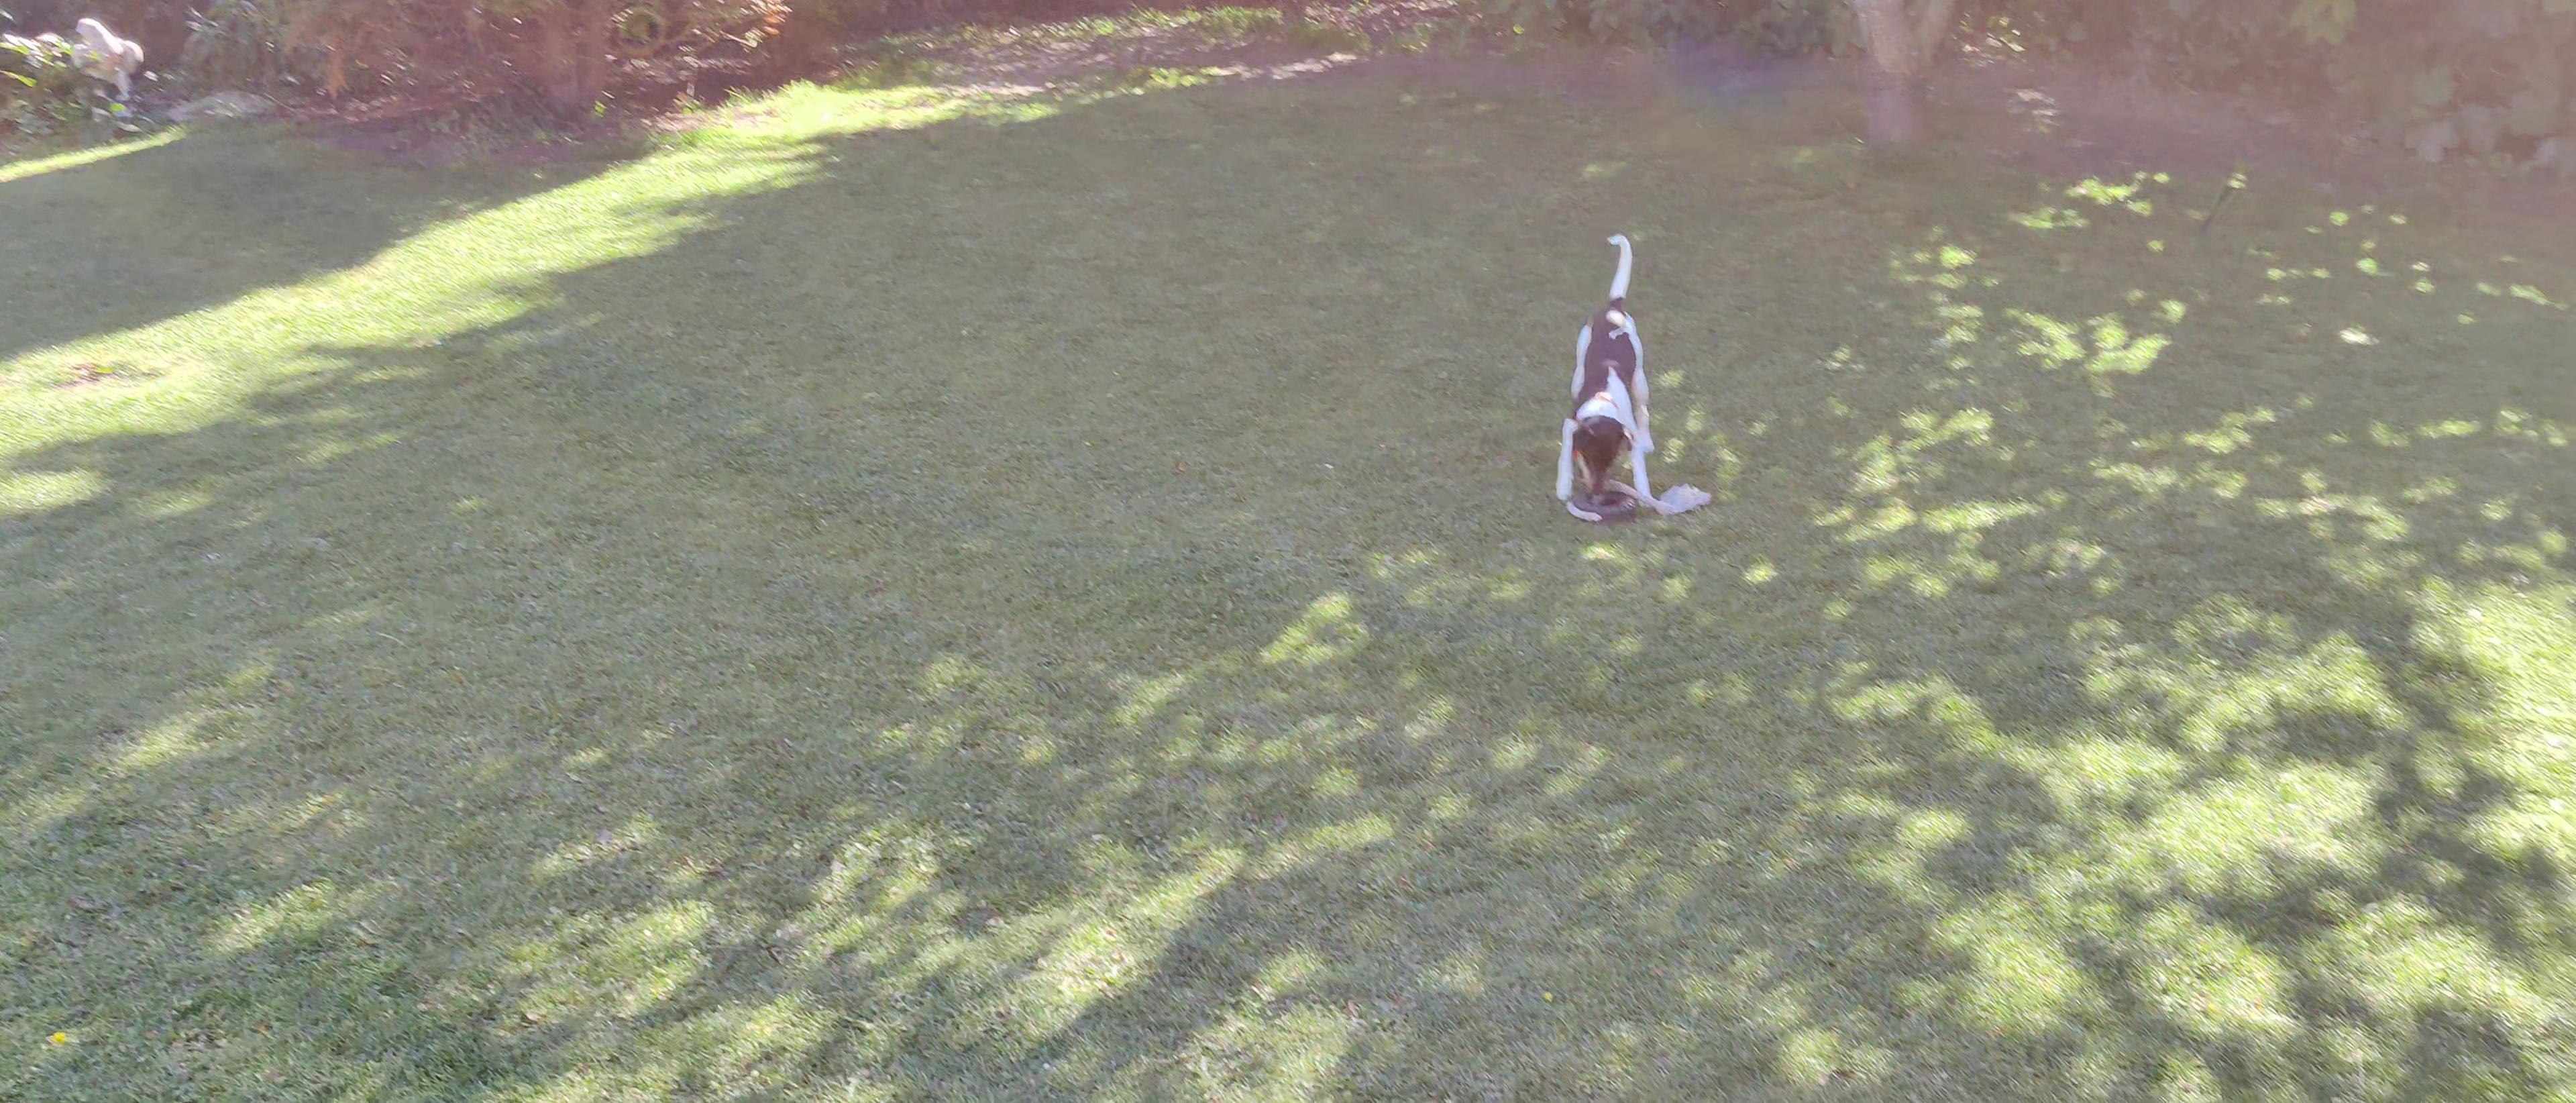Dog: (1544, 227, 1663, 510)
